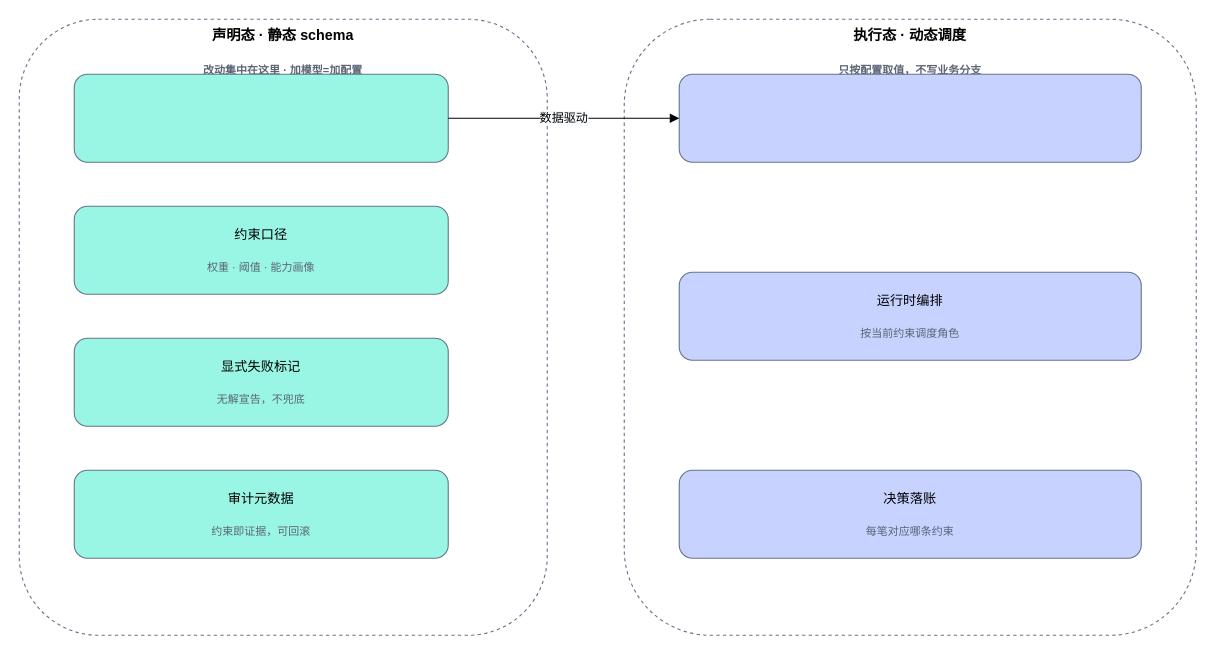
This 1216x655 diagram has some shape labels left out. The shapes that lost their labels are listed below. From the top down, each one's centre as x and y in pixels, then its label:
the point at 260,117: 模型画像 schema 硬/软约束字段
the point at 909,117: 约束求解引擎 数据驱动取值
